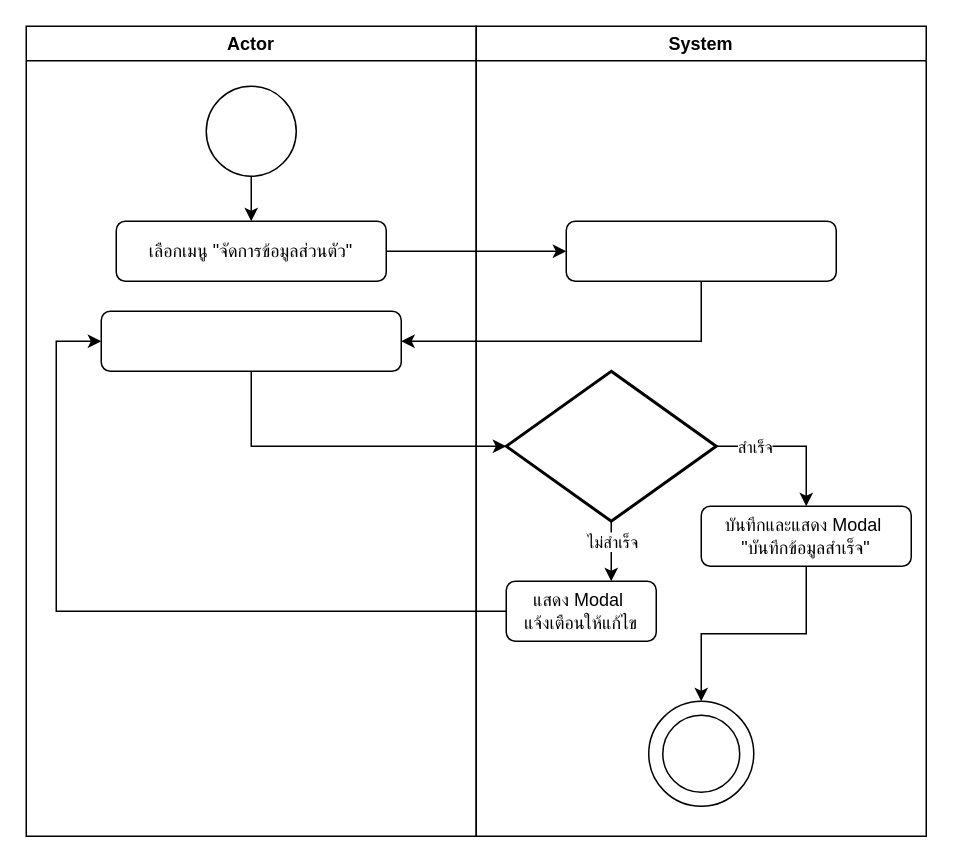
This 953x863 diagram has some shape labels left out. The centre of each missing label's shape, as x and y in pixels:
"ตรวจสอบความ ถูกต้องของข้อมูล" belongs at point 610,445.
"ป้อนหรือแก้ไขข้อมูล และกดยืนยัน" belongs at point 250,340.
"แสดงหน้าข้อมูลส่วนตัวปัจจุบัน" belongs at point 700,250.
